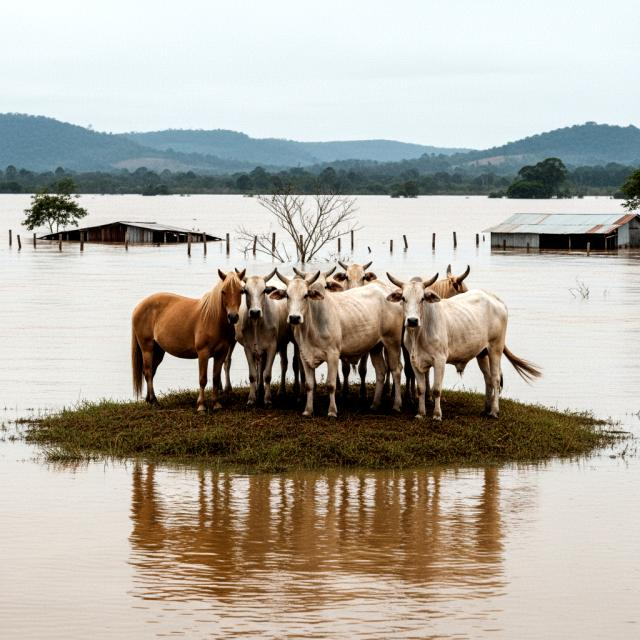cow: (378, 267, 512, 443), (272, 262, 407, 434), (231, 262, 304, 420), (406, 262, 477, 304), (329, 256, 394, 291), (286, 259, 341, 293)
horse: (122, 263, 248, 417)
